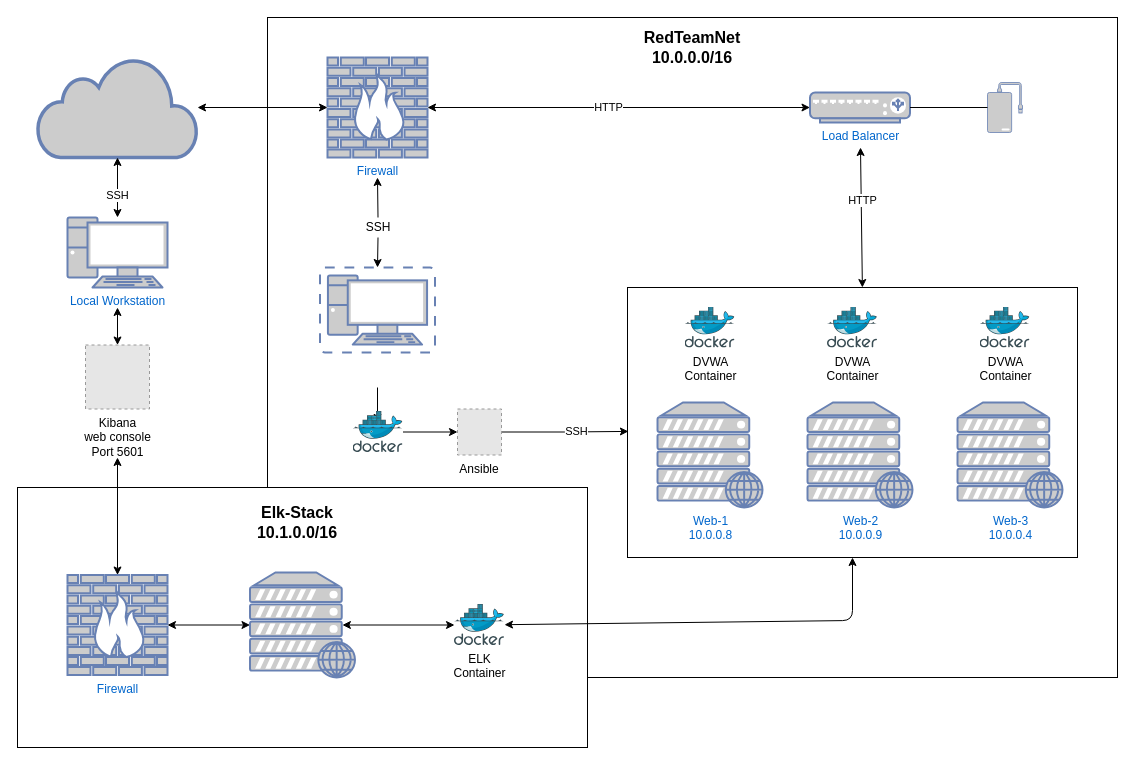
This 1135x765 diagram has some shape labels left out. Grey dashed boxes stand in for pictures. The centre of each missing label's shape, as x and y in pixels:
"ELK-Stack 10.1.0.4" goes at (302,624).
"Health Probe" goes at (1004,107).
"Internet" goes at (117,107).
"Jump-Box-Provisioner 10.0.0.7" goes at (377,309).
